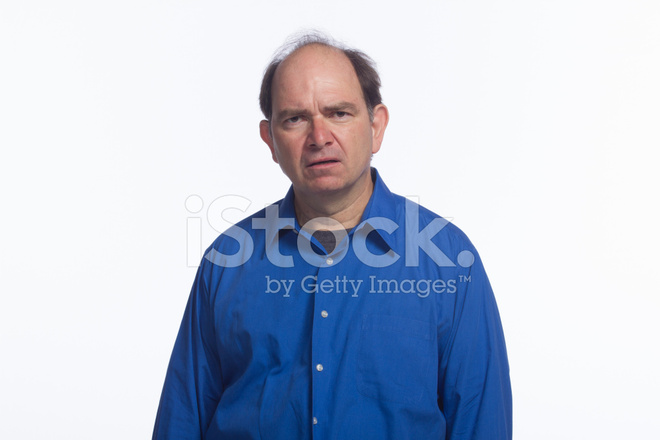confused: (249, 65, 390, 206)
